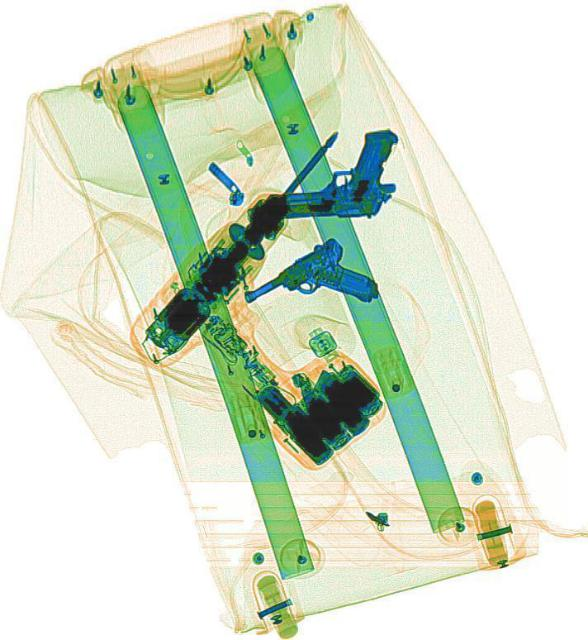Gun: (236, 228, 380, 358), (262, 126, 398, 220)
